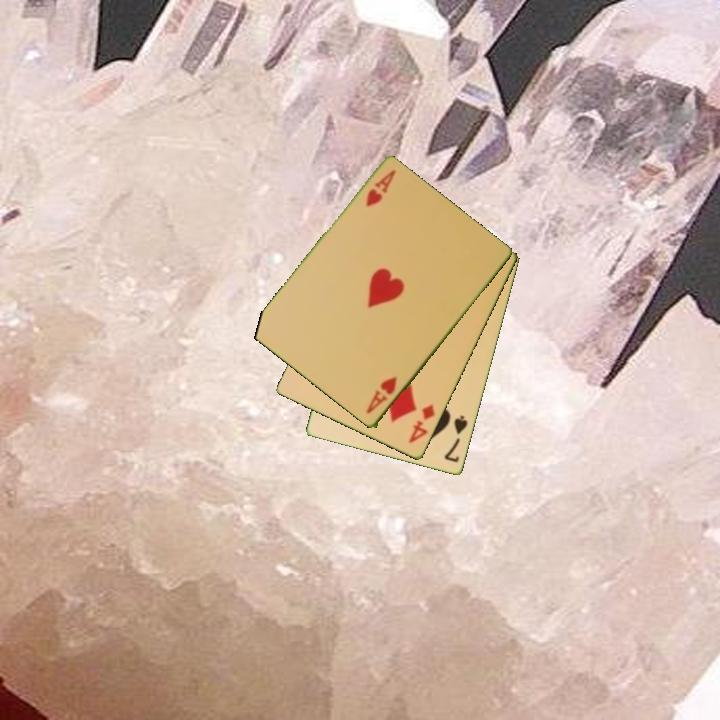4d: (405, 401, 438, 447)
7s: (441, 412, 471, 466)
Ah: (363, 373, 400, 417), (362, 166, 399, 210)
